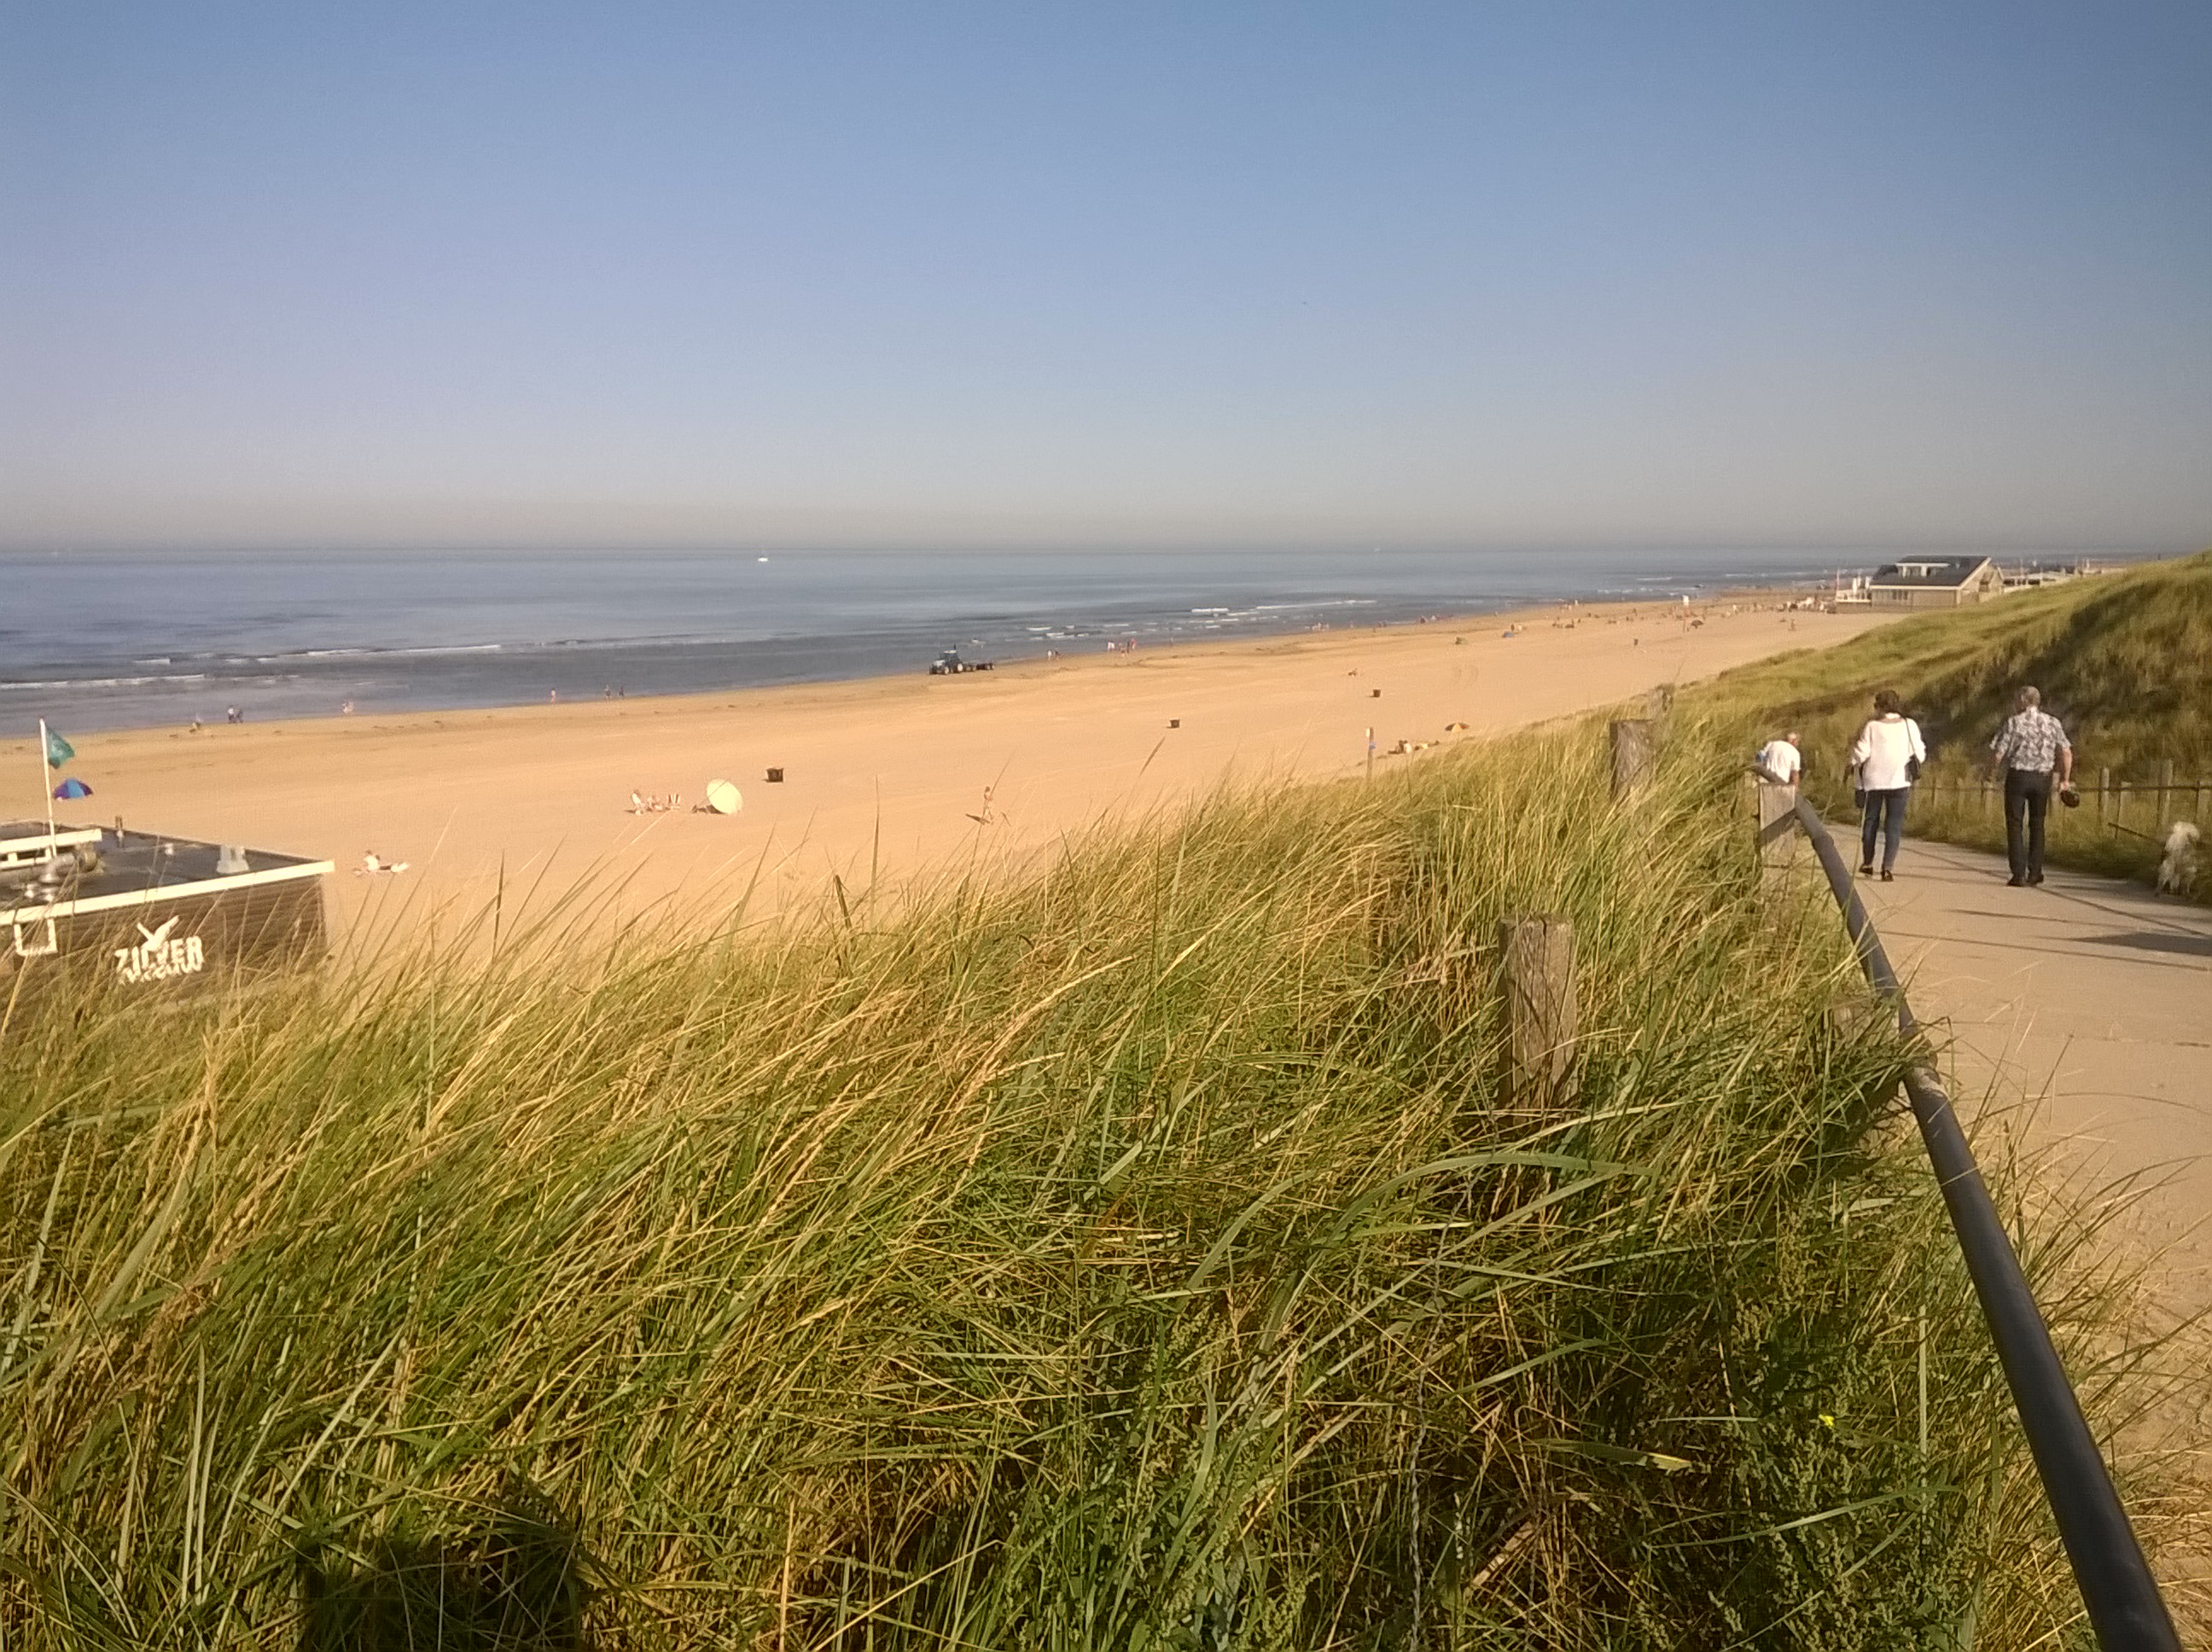strandtent: (1811, 540, 2021, 628)
